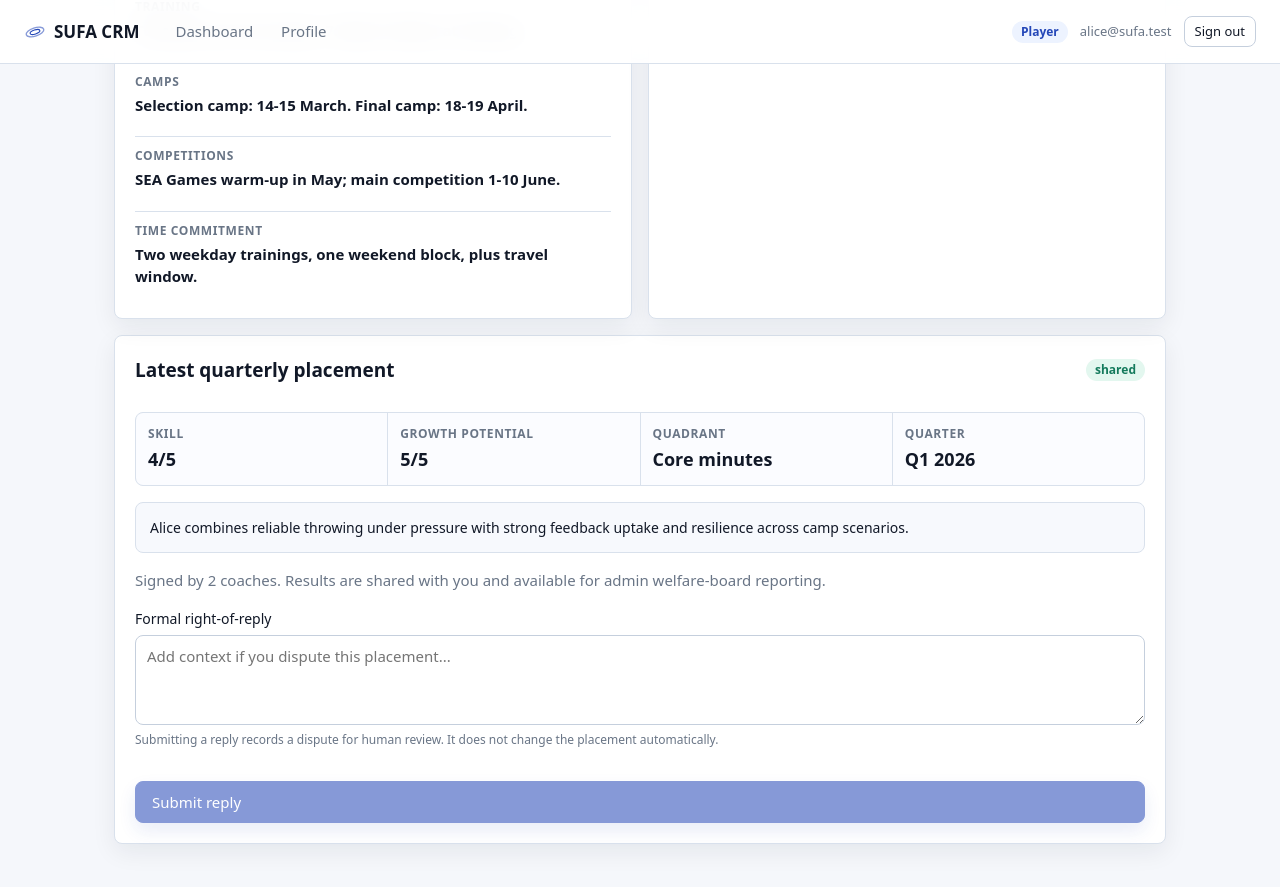
Test: App routing › lets a player submit a right-of-reply without changing the placement result
(page scrolled)
Type "I want the welfare board to know I was recovering from illness during camp." into the text box labelled "Formal right-of-reply" at (640, 680), box [135,634,1145,724]
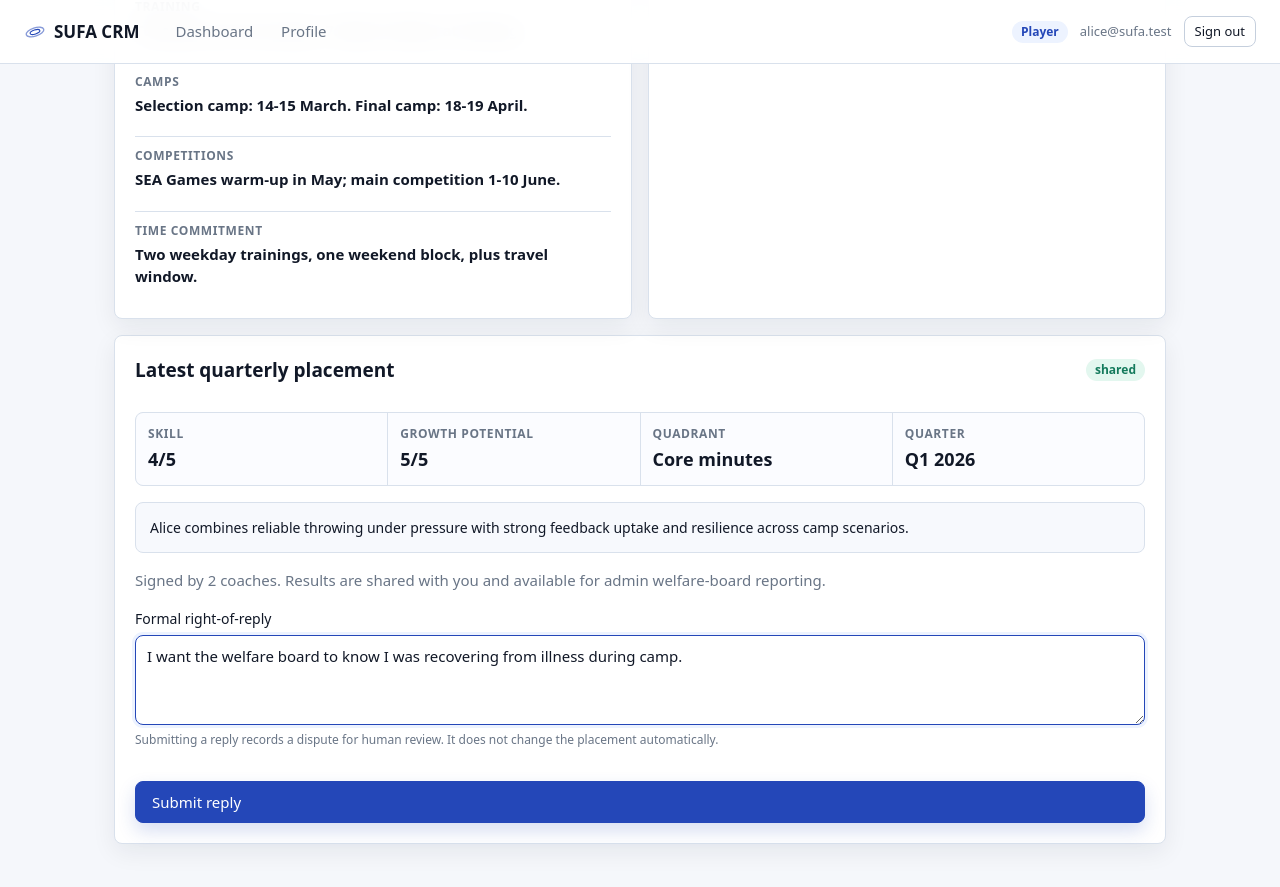
Click the button "Submit reply" at (197, 802), box [135,780,1145,823]
(page scrolled)
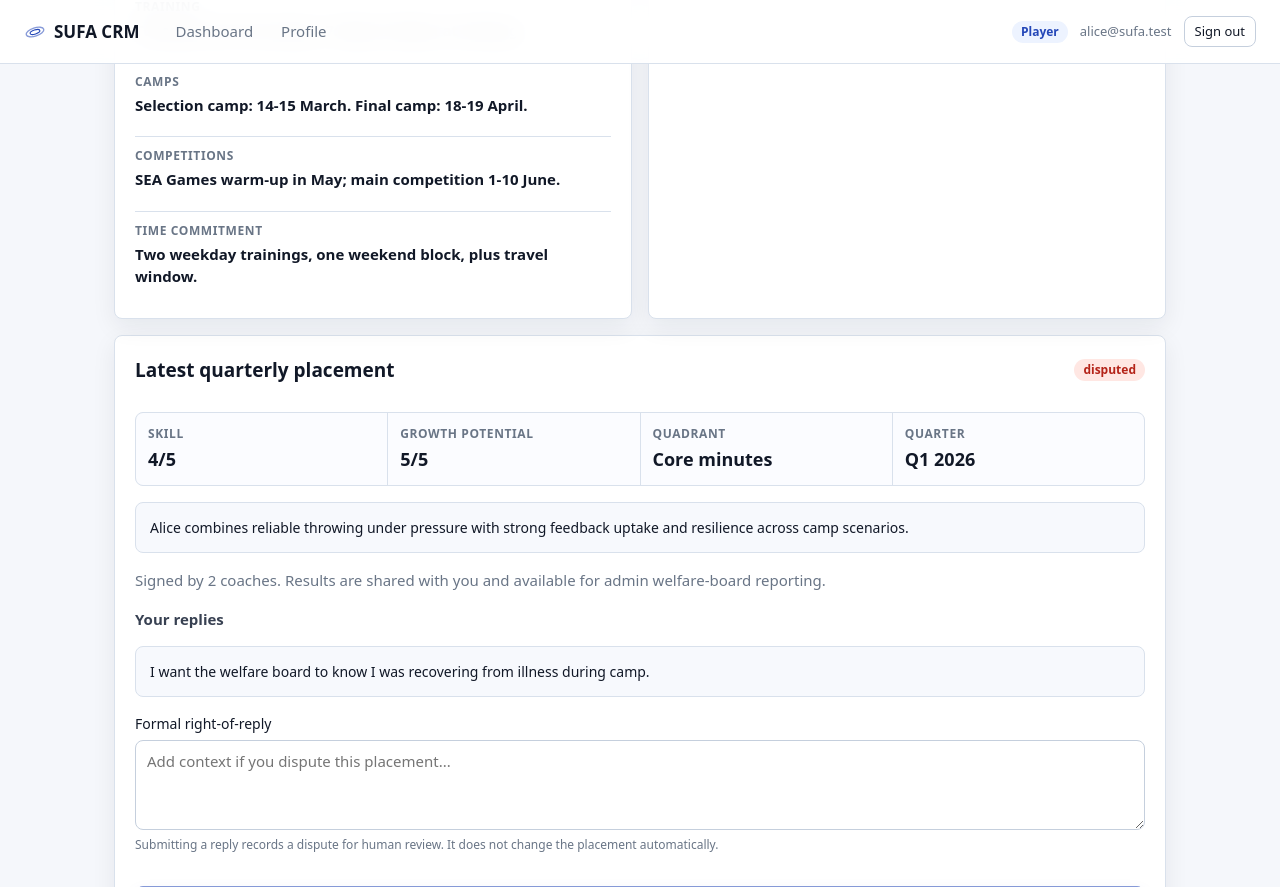
Expected: the text "Core minutes" is shown, [652,447,772,471]
Expected: the text "disputed" is shown, [1074,359,1145,381]
